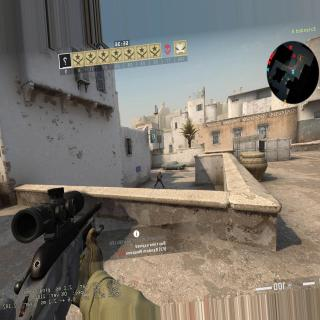T-Body: (154, 171, 165, 188)
T-Head: (159, 171, 161, 175)
